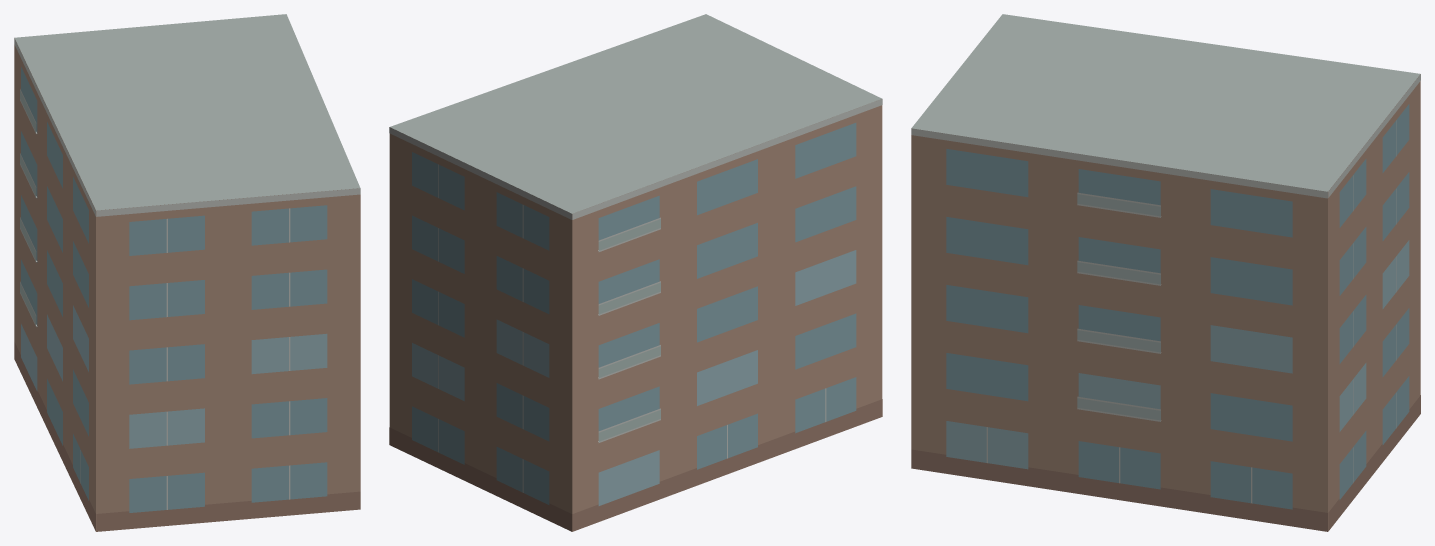
Rendered from survey-upis-32709043.glb.
3 views of the same model, side by side, from view 1: azimuth 30°, elevation 25°; view 2: azimuth 150°, elevation 25°; view 3: azimuth 270°, elevation 25° (orthographic). The views are drawn at different scales.
Visible parts, largest first — view 1: survey-upis-32709043.tmp; view 2: survey-upis-32709043.tmp; view 3: survey-upis-32709043.tmp.
Boxes of the visible parts, x1,y1,x2,y2 form: survey-upis-32709043.tmp: (14,14,360,531); survey-upis-32709043.tmp: (389,14,882,531); survey-upis-32709043.tmp: (911,14,1420,531).
Size of the model in its own units: 13.8 by 12.3 by 16.71.
